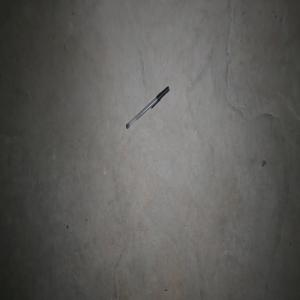Pen: (125, 86, 169, 129)
